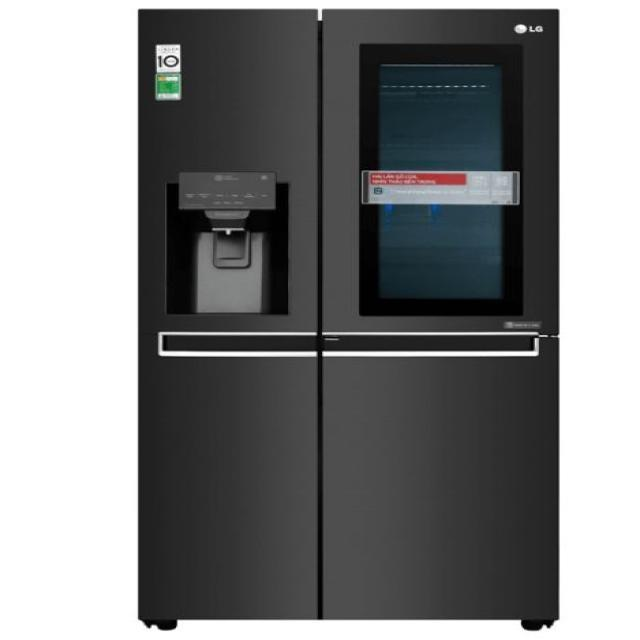obstacle: (135, 7, 561, 632)
